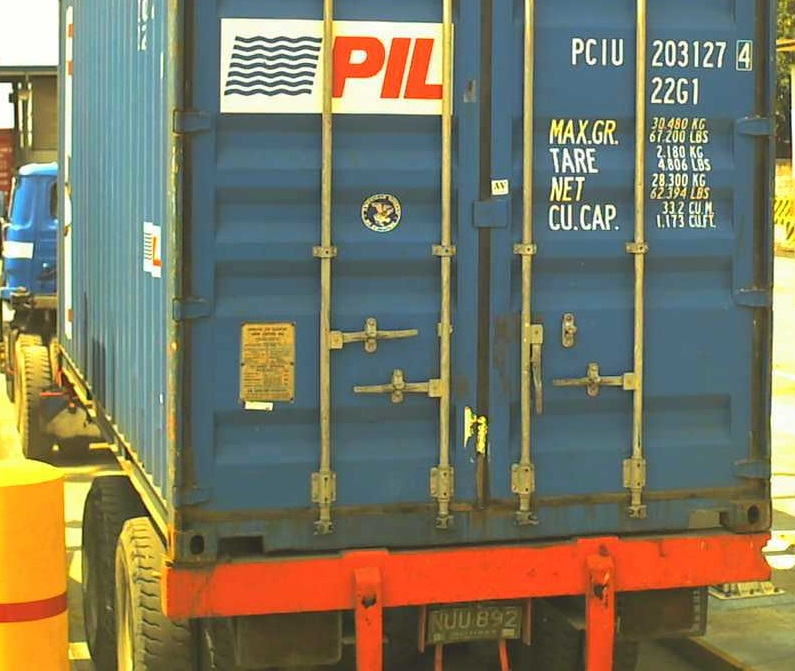container_door: (166, 1, 776, 564)
